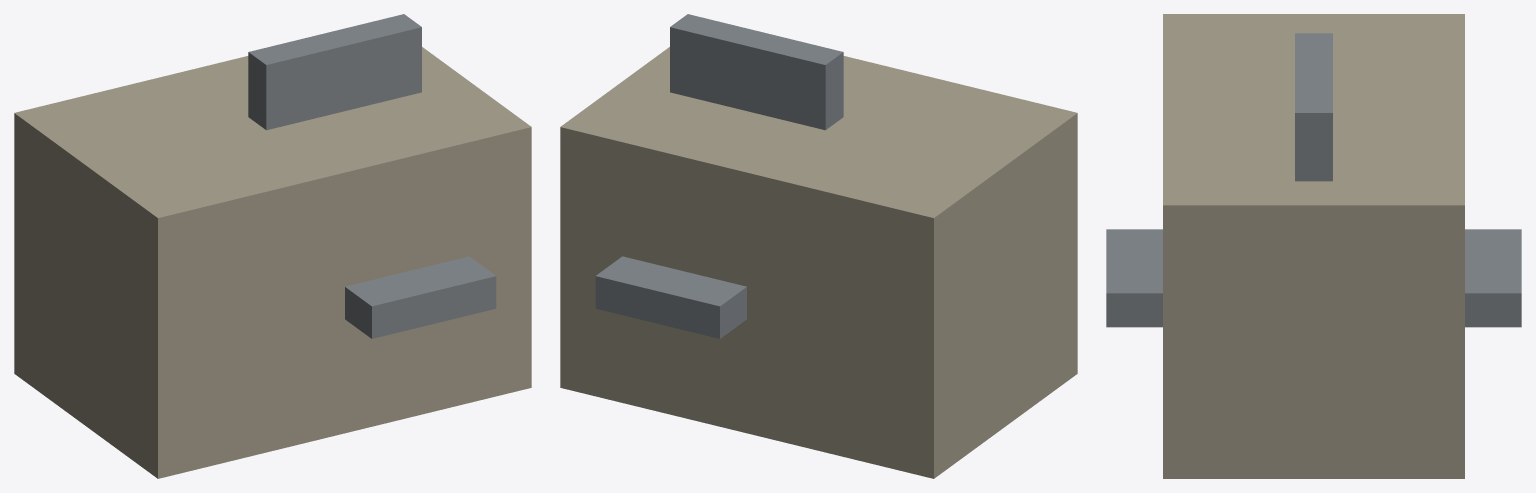
Rendered from metaverse-guidance-shroud.gltf.
3 renders of one model, left to right at view 1: azimuth 30°, elevation 25°; view 2: azimuth 150°, elevation 25°; view 3: azimuth 270°, elevation 25°, orthographic. The views are drawn at different scales.
Parts seen in each view (by area): view 1: metaverse_guidance_shroud_body, metaverse_guidance_shroud_fin_top, metaverse_guidance_shroud_fin_right; view 2: metaverse_guidance_shroud_body, metaverse_guidance_shroud_fin_top, metaverse_guidance_shroud_fin_left; view 3: metaverse_guidance_shroud_body, metaverse_guidance_shroud_fin_top, metaverse_guidance_shroud_fin_left, metaverse_guidance_shroud_fin_right.
Part boxes in pixels (x1,y1,x2,y2): metaverse_guidance_shroud_body: (14,47,531,478); metaverse_guidance_shroud_fin_top: (248,14,421,130); metaverse_guidance_shroud_fin_right: (345,256,496,338); metaverse_guidance_shroud_body: (560,47,1077,478); metaverse_guidance_shroud_fin_top: (670,14,843,130); metaverse_guidance_shroud_fin_left: (595,256,746,338); metaverse_guidance_shroud_body: (1163,14,1464,478); metaverse_guidance_shroud_fin_top: (1295,33,1332,181); metaverse_guidance_shroud_fin_left: (1465,229,1521,327); metaverse_guidance_shroud_fin_right: (1106,229,1162,327).
Bounding box in the file's own units: 0.12 × 0.1 × 0.11.
